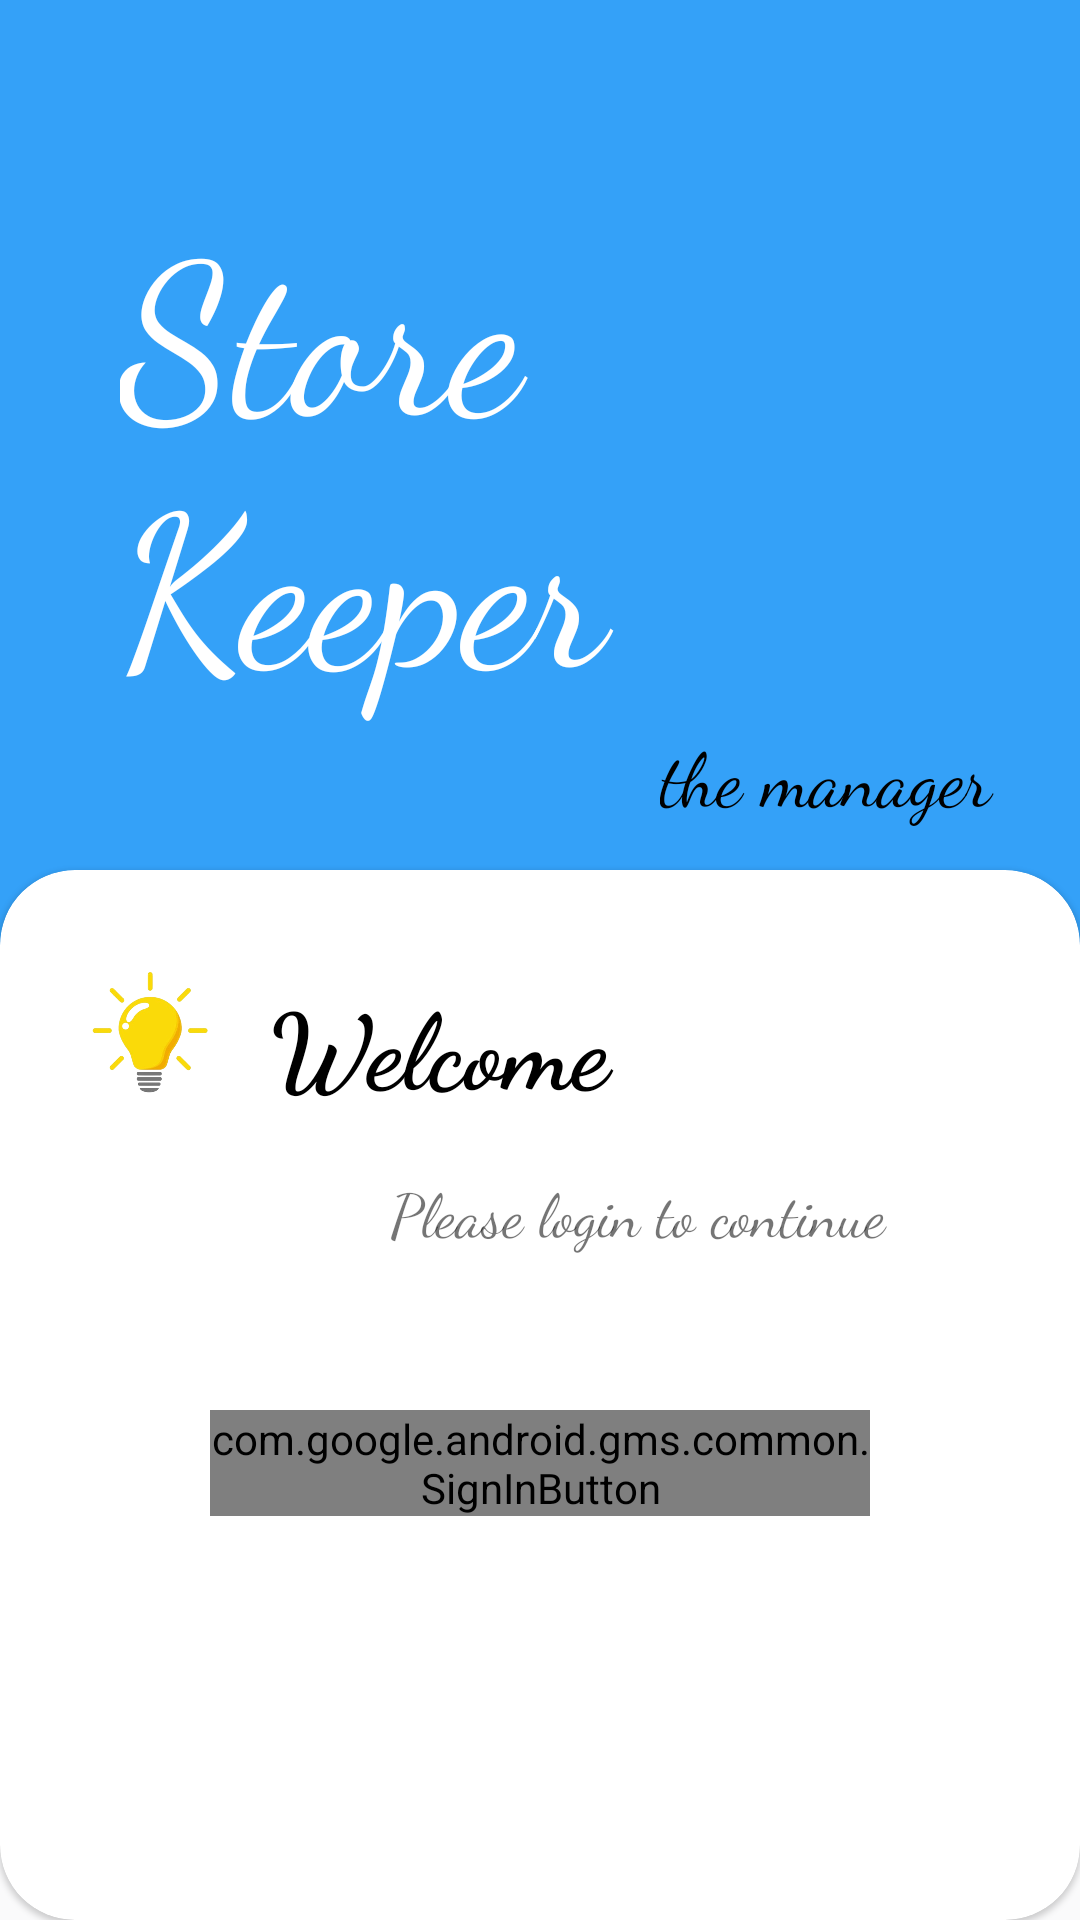

Screen size 1080 x 1920. Icon name, then its center in pixels as (x,y):
bulb: (150,1032)
